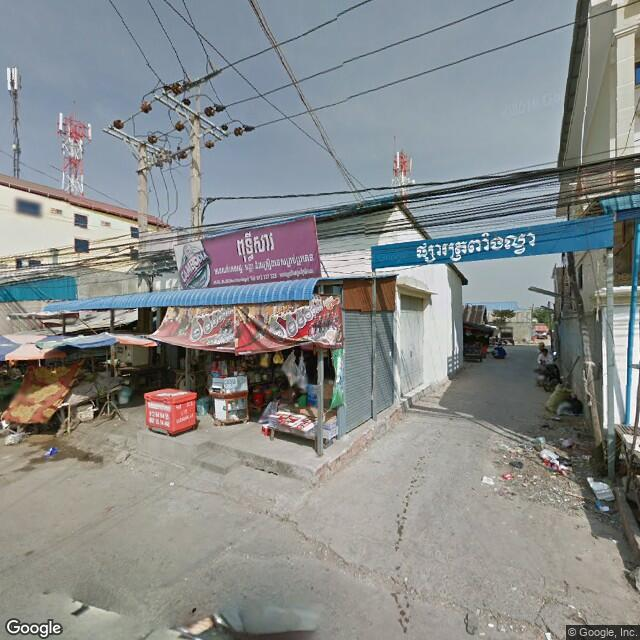litter: (585, 469, 617, 515), (477, 465, 519, 492), (536, 448, 579, 474), (42, 442, 67, 461), (163, 479, 178, 490), (543, 628, 555, 640)
